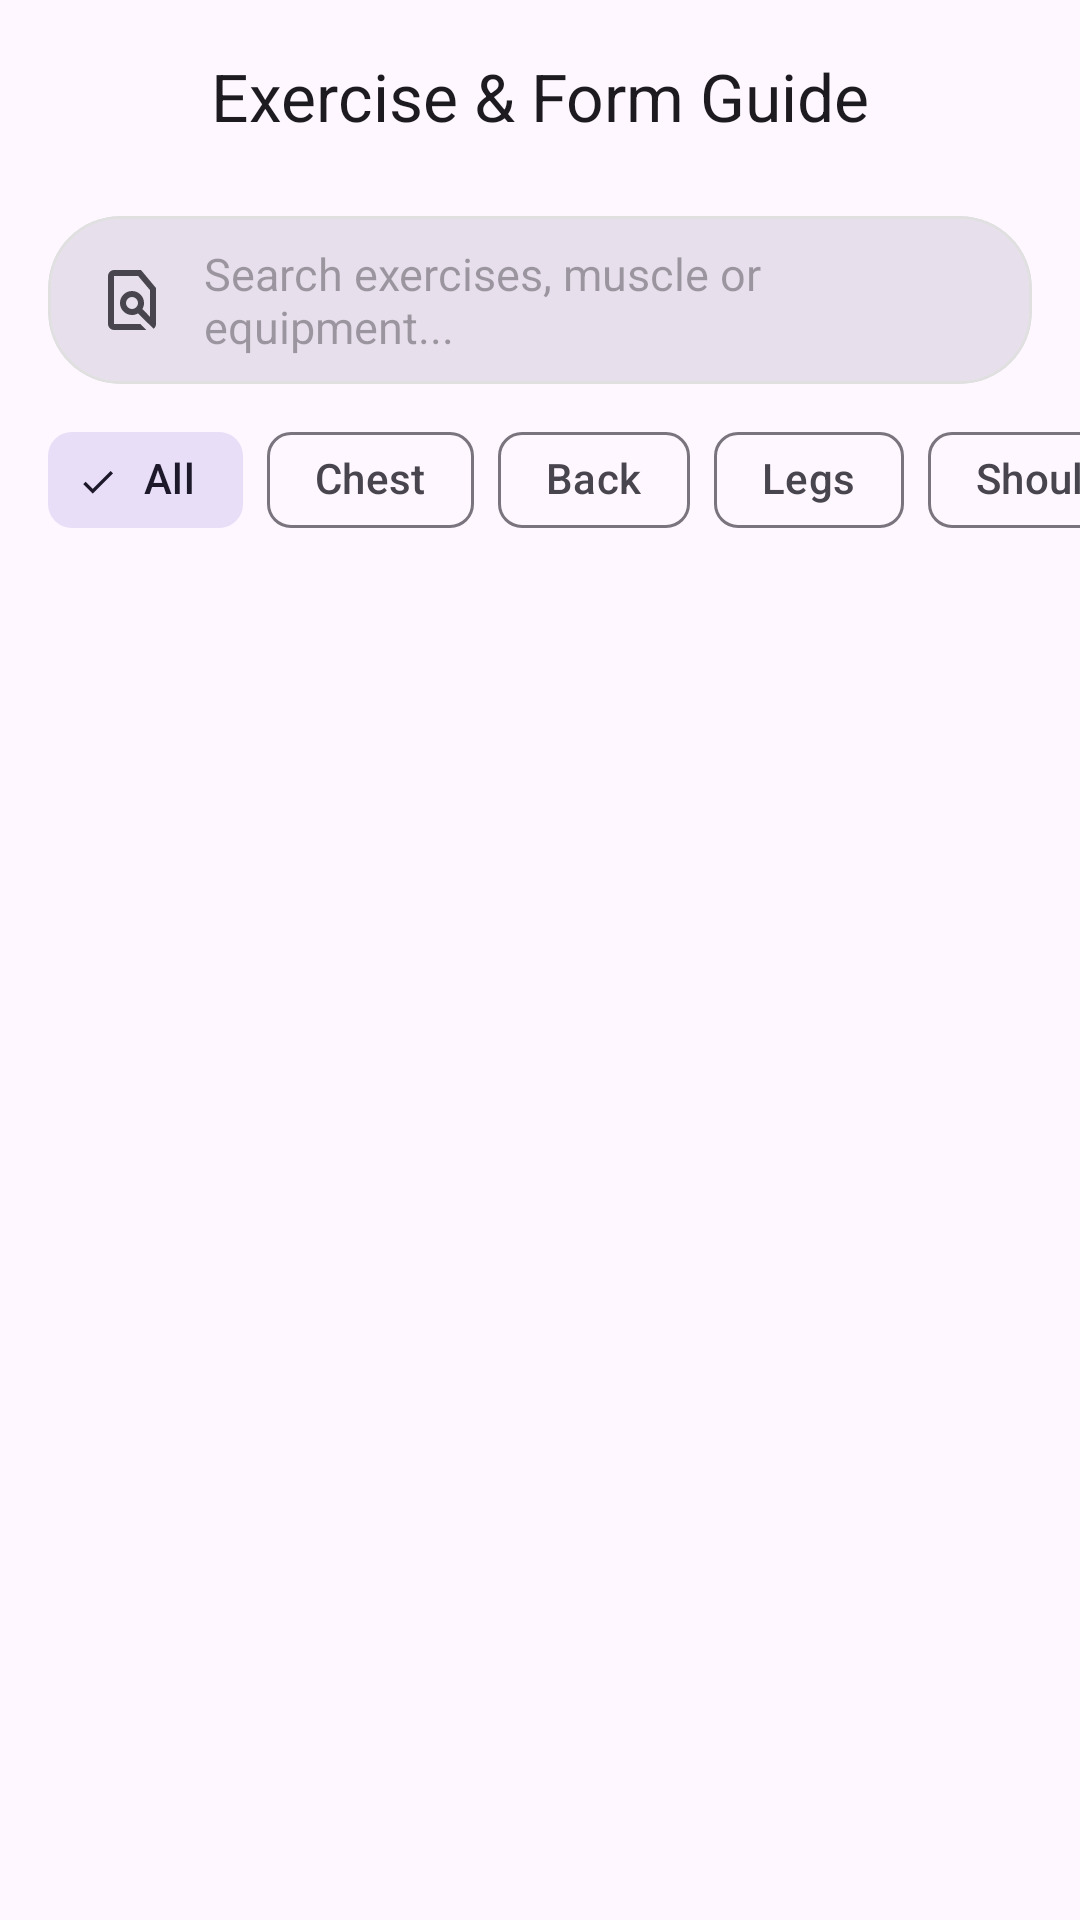

Screen size 1080px×1920px. Icon name, then its center in pixels as point (x, y):
find in page: point (132, 300)
